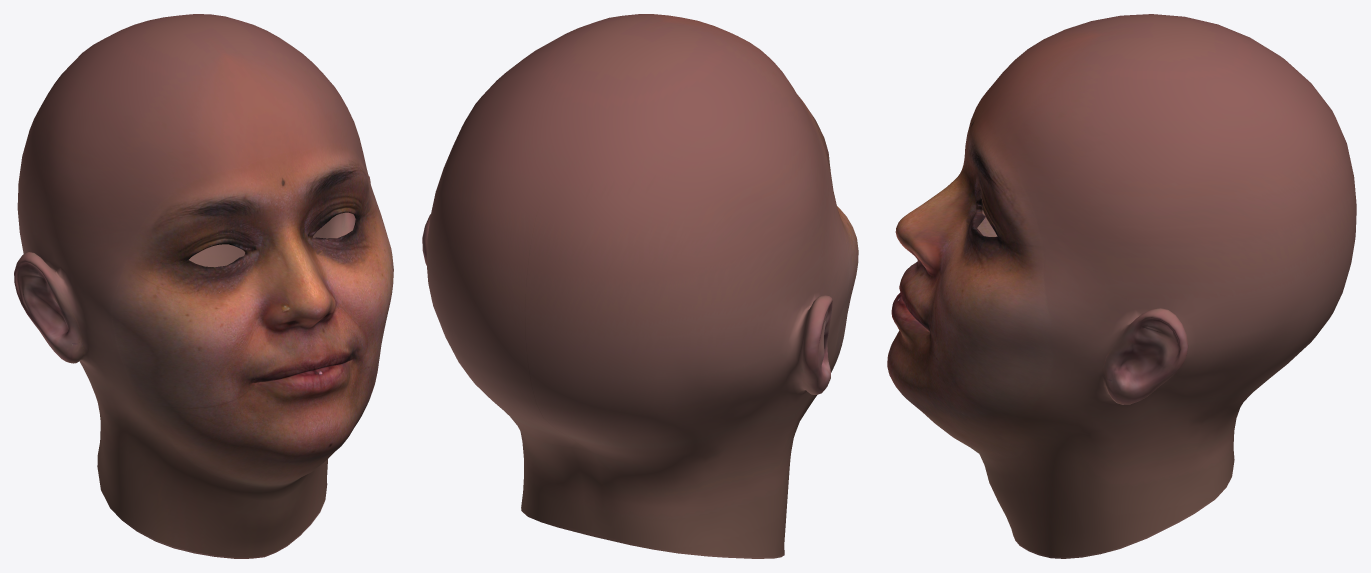
3 renders of one model, left to right at view 1: azimuth 30°, elevation 25°; view 2: azimuth 150°, elevation 25°; view 3: azimuth 270°, elevation 25°, orthographic. The views are drawn at different scales.
Parts seen in each view (by area): view 1: FaceGen; view 2: FaceGen; view 3: FaceGen.
Boxes of the visible parts, <box> form: FaceGen: <box>14,14,393,558</box>; FaceGen: <box>422,14,858,558</box>; FaceGen: <box>887,14,1356,558</box>.
Size of the model in its own units: 214 by 282 by 237.
1 material, 1 textured.
